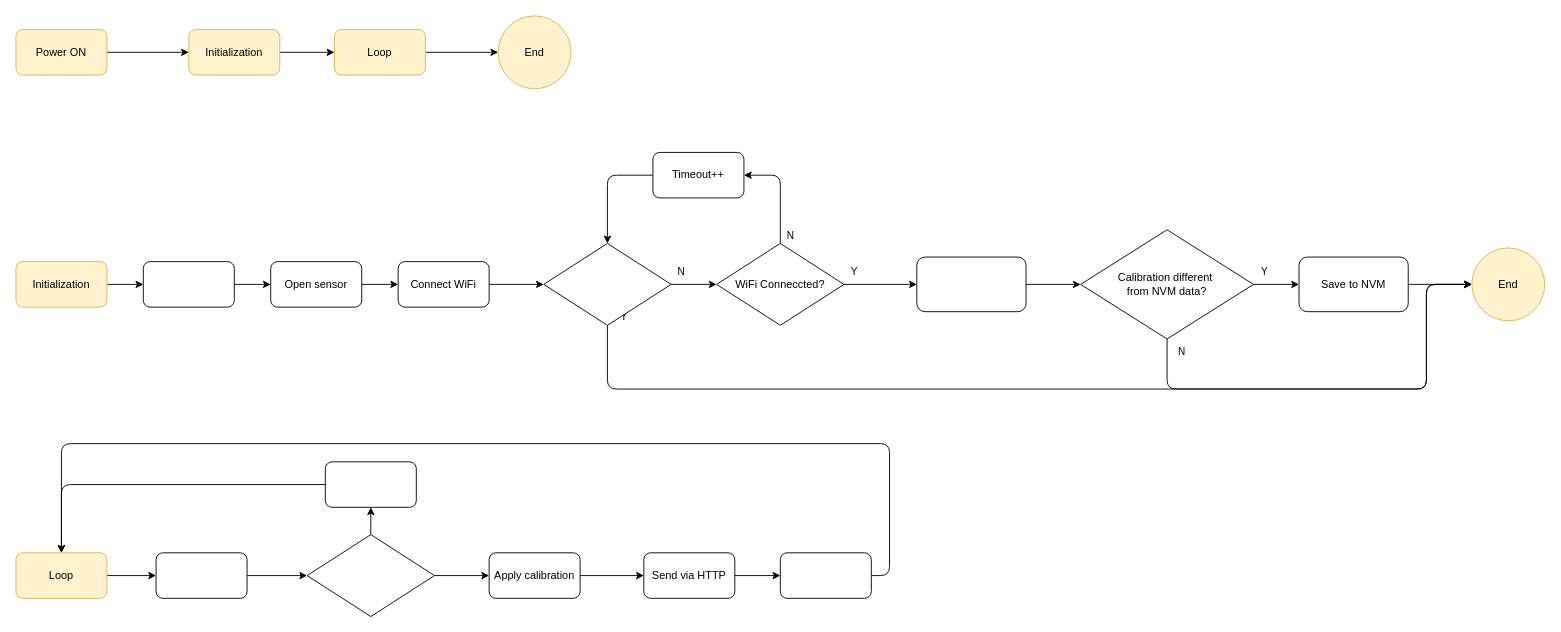
Some shapes in this 1561 by 632 pixel diagram are drawn without their labels. The shapes that lost their labels are listed below. From the top down, each one's box as (x1, y1, x2, y2) in pixels, then its label:
(142, 261, 234, 307): Open serial
(543, 243, 671, 325): Timeout?
(916, 256, 1026, 312): Get calibration data
(324, 461, 416, 507): Print debug info
(155, 552, 247, 598): Read sensor
(306, 534, 435, 617): Is NAN?
(779, 552, 871, 598): Delay 2000ms
